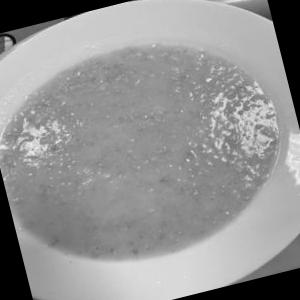porridge: (0, 14, 300, 300)
